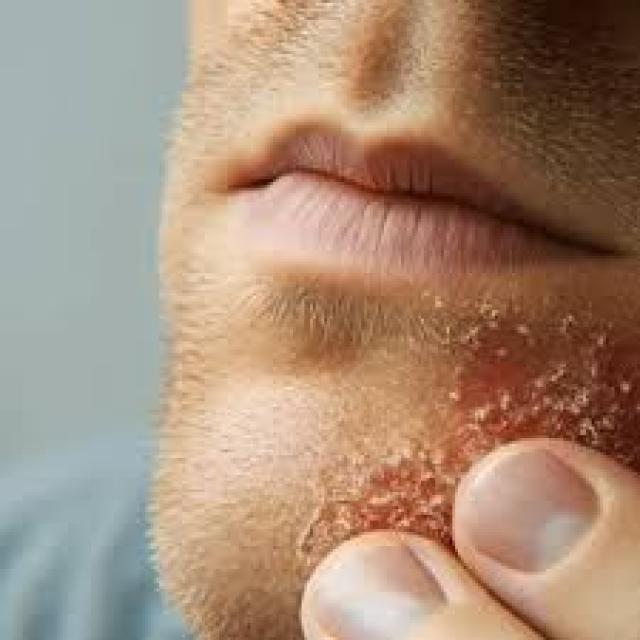flakiness: (355, 316, 633, 542)
